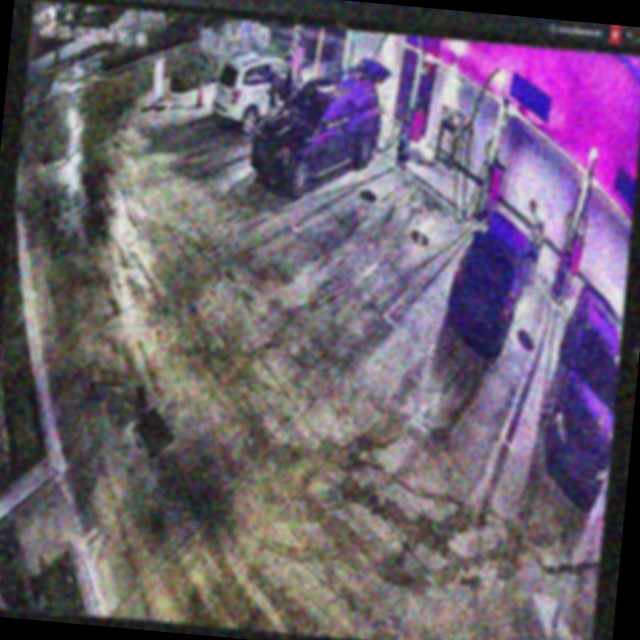Car: (246, 50, 389, 202), (441, 205, 537, 359)
